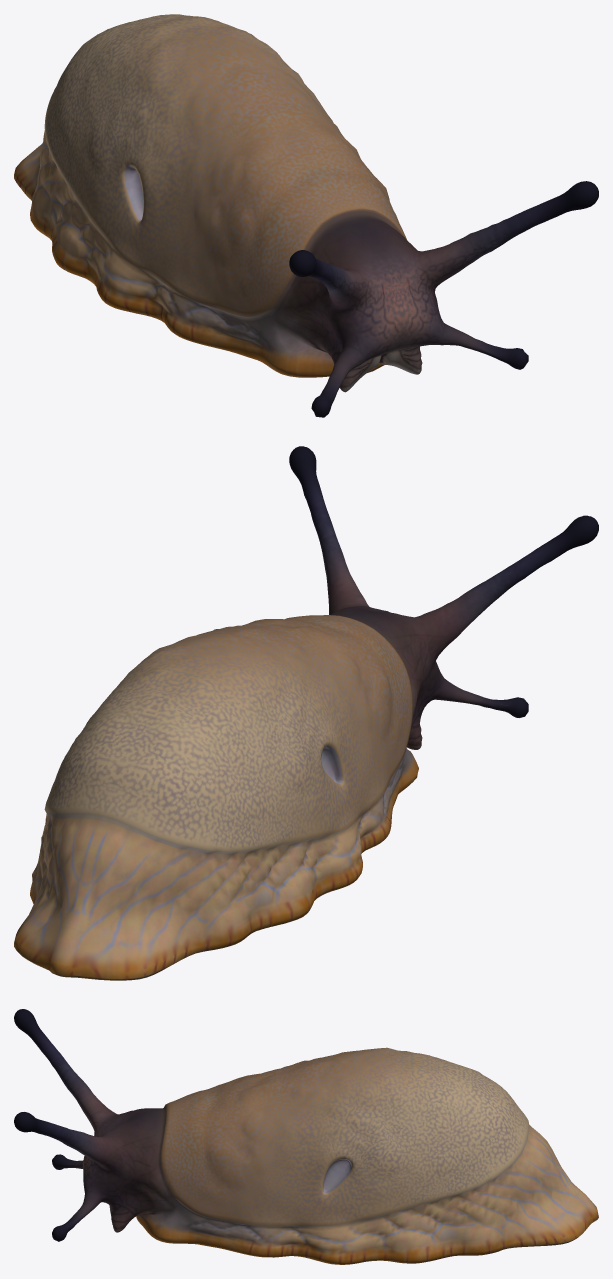
The model's file is slug.glb.
3 renders of one model, top to bottom at view 1: azimuth 30°, elevation 25°; view 2: azimuth 150°, elevation 25°; view 3: azimuth 270°, elevation 25°, orthographic. The views are drawn at different scales.
Parts seen in each view (by area): view 1: Arion_Rufus_Phase4; view 2: Arion_Rufus_Phase4; view 3: Arion_Rufus_Phase4.
Boxes of the visible parts, x1=… form: Arion_Rufus_Phase4: x1=14, y1=14, x2=598, y2=417; Arion_Rufus_Phase4: x1=14, y1=446, x2=598, y2=980; Arion_Rufus_Phase4: x1=14, y1=1009, x2=598, y2=1264.
Bounding box in the file's own units: 0.9026 × 0.6247 × 2.01.
Materials: 1 (1 with a texture image).
